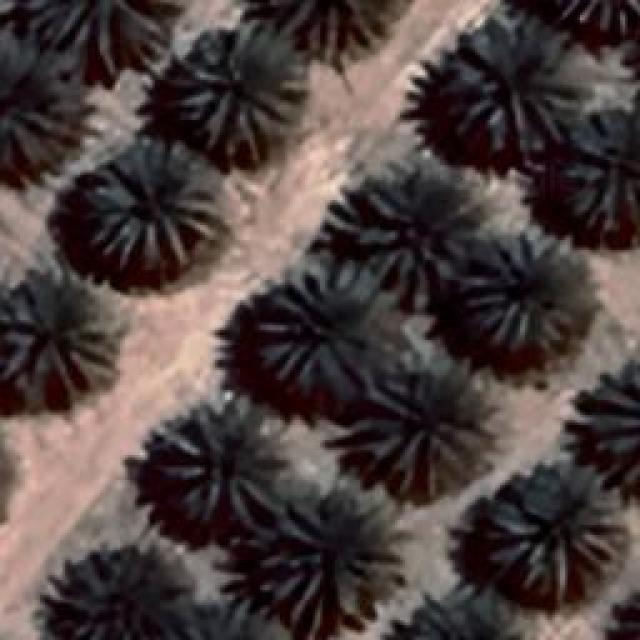PalmTree: (250, 482, 402, 636), (482, 460, 628, 602), (352, 355, 492, 500), (172, 25, 306, 165), (347, 162, 475, 308), (82, 140, 220, 272), (448, 12, 582, 146), (255, 252, 375, 386), (160, 392, 285, 518), (458, 225, 572, 350), (0, 270, 112, 390), (238, 0, 418, 68), (561, 352, 640, 502), (55, 555, 185, 640), (18, 0, 180, 65), (560, 102, 638, 232), (0, 45, 72, 160), (503, 0, 640, 49), (400, 588, 518, 640), (157, 591, 267, 640), (597, 591, 640, 640)
